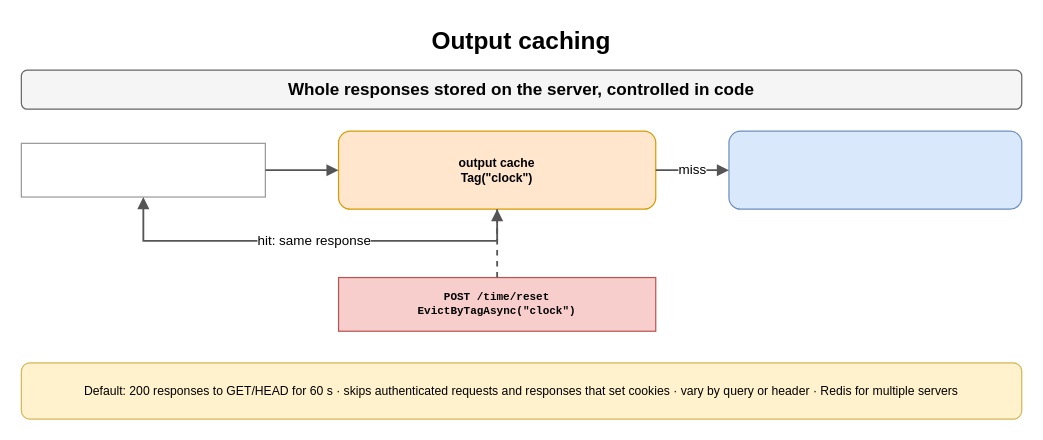
Image size: 1043x440. Some labels were removed from this diagram. The shapes that lost their labels are listed below. From the top down, each one's box as (x1, y1, x2, y2) in pixels, then its label:
(20, 142, 265, 197): GET /time
(728, 130, 1022, 209): endpoint runs DateTime.UtcNow
